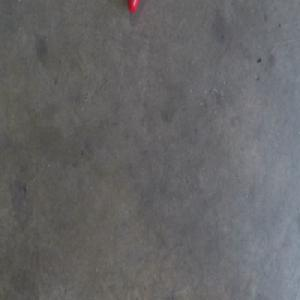Pliers: (126, 0, 140, 14)
